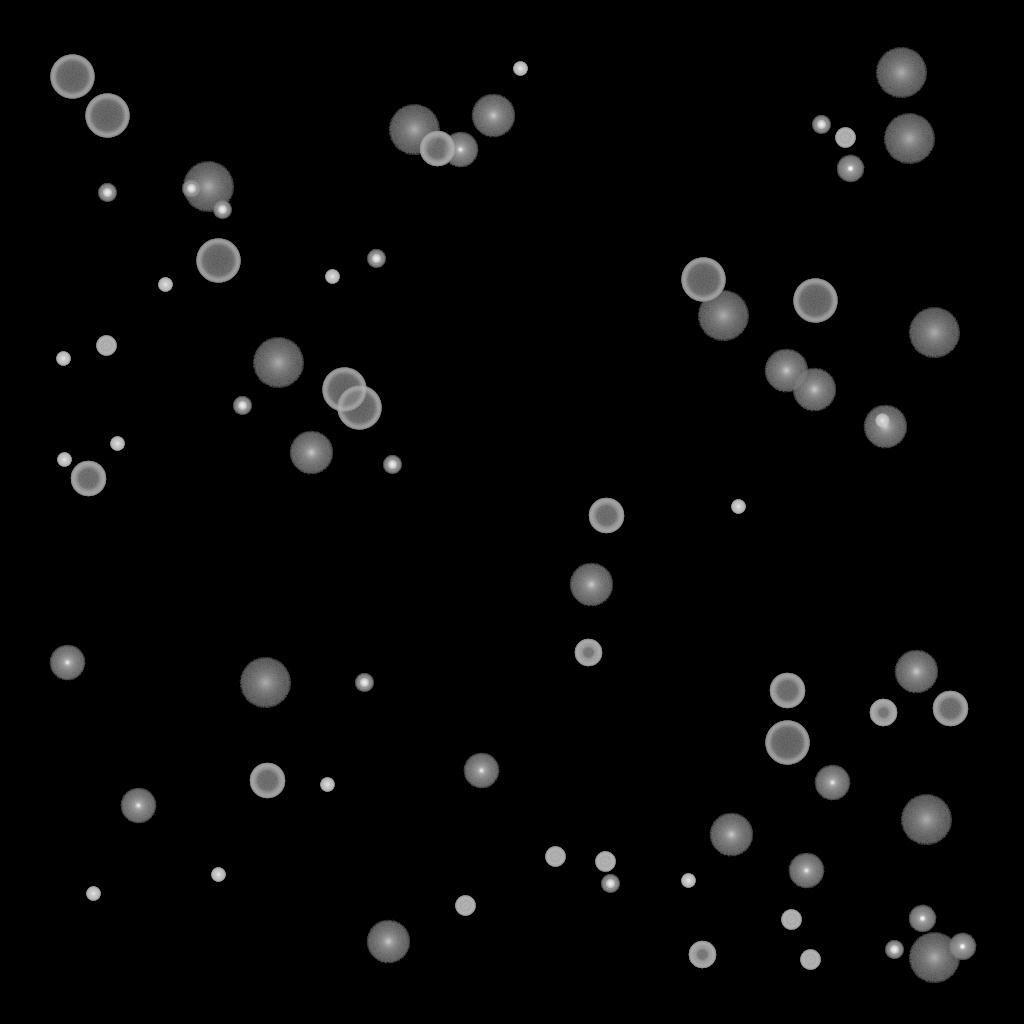depth:-10: (836, 155, 864, 183), (908, 905, 936, 933), (948, 933, 976, 961)
depth:-20: (182, 180, 200, 198), (885, 941, 903, 959), (601, 875, 619, 893), (812, 116, 830, 134), (213, 201, 231, 219), (233, 397, 251, 415), (355, 674, 373, 692), (383, 456, 401, 474), (367, 250, 385, 268), (98, 184, 116, 202)
depth:-30: (325, 270, 339, 284), (875, 414, 889, 428), (681, 874, 695, 888), (158, 278, 172, 292), (86, 887, 100, 901), (110, 437, 124, 451), (320, 778, 334, 792), (57, 453, 71, 467), (513, 62, 527, 76), (211, 868, 225, 882), (731, 500, 745, 514), (56, 352, 70, 366)
depth:-40: (545, 847, 565, 867), (595, 852, 615, 872), (96, 336, 116, 356), (781, 910, 801, 930), (800, 950, 820, 970), (835, 128, 855, 148), (455, 896, 475, 916)
depth:-50: (869, 699, 897, 727), (574, 639, 602, 667), (688, 941, 716, 969)
depth:-60: (769, 673, 805, 709), (70, 461, 106, 497), (588, 498, 624, 534), (419, 131, 455, 167), (249, 763, 285, 799), (932, 691, 968, 727)
depth:-70: (681, 258, 725, 302), (50, 55, 94, 99), (322, 368, 366, 412), (765, 721, 809, 765), (85, 94, 129, 138), (793, 279, 837, 323), (196, 239, 240, 283), (337, 386, 381, 430)
depth:0: (788, 853, 824, 889), (463, 753, 499, 789), (49, 645, 85, 681), (814, 765, 850, 801), (120, 788, 156, 824), (442, 132, 478, 168)
depth:10: (792, 368, 836, 412), (471, 94, 515, 138), (709, 813, 753, 857), (289, 431, 333, 475), (764, 349, 808, 393), (569, 563, 613, 607), (366, 920, 410, 964), (863, 405, 907, 449), (894, 650, 938, 694)
depth:20: (252, 338, 304, 388), (875, 48, 927, 98), (883, 114, 935, 164), (900, 795, 952, 845), (908, 933, 960, 983), (697, 291, 749, 341), (388, 105, 440, 155), (908, 308, 960, 358), (239, 658, 291, 708), (182, 162, 234, 212)
